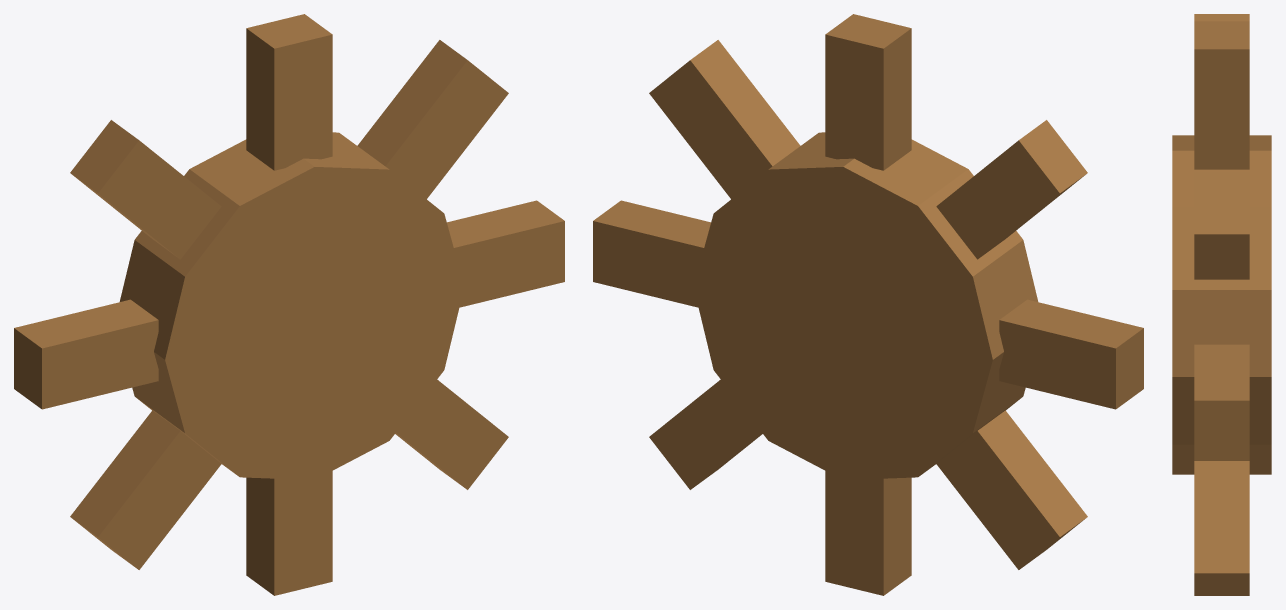
File: emblem_sun.fbx
3 views of the same model, side by side, from view 1: azimuth 30°, elevation 25°; view 2: azimuth 150°, elevation 25°; view 3: azimuth 270°, elevation 25° (orthographic).
Parts seen in each view (by area): view 1: Emblem; view 2: Emblem; view 3: Emblem.
Boxes of the visible parts, x1=… form: Emblem: x1=14, y1=14, x2=564, y2=595; Emblem: x1=593, y1=14, x2=1143, y2=595; Emblem: x1=1172, y1=14, x2=1271, y2=595.
Bounding box in the file's own units: 53.8 × 53.8 × 9.
